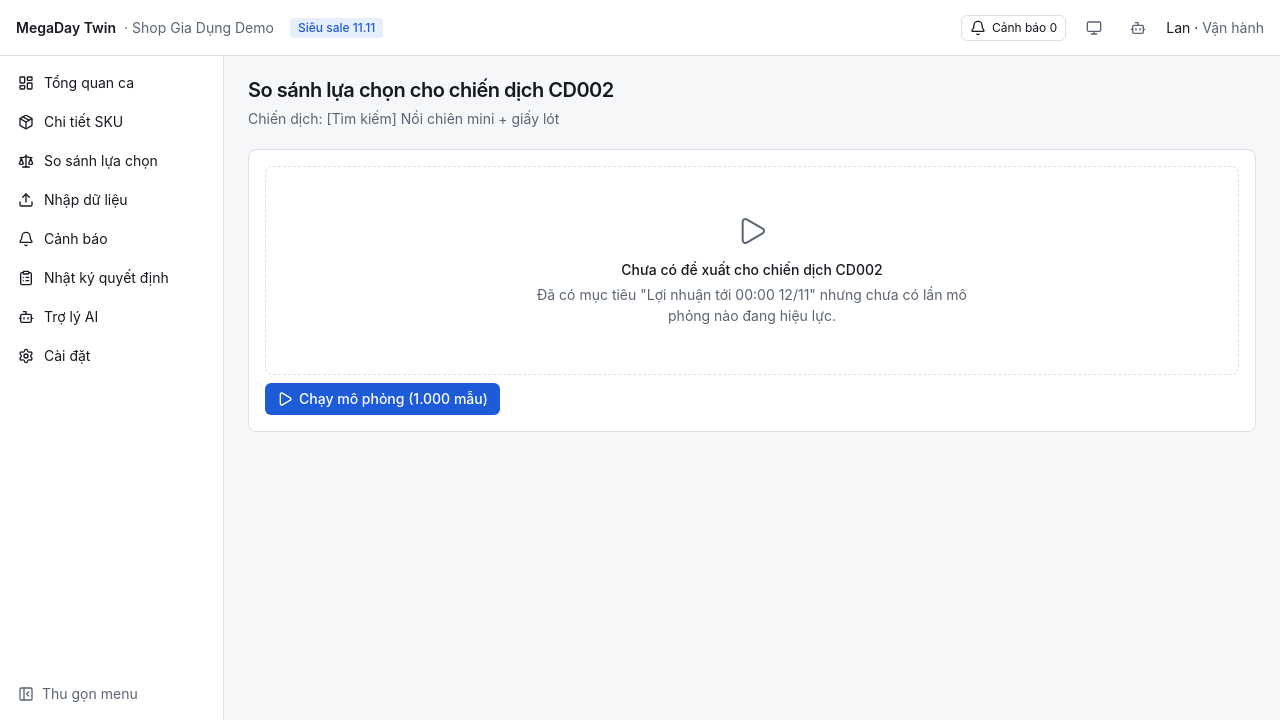
Compare · real API › goal but blocked by missing cost: lists what is missing
The width and height of the screenshot is (1280, 720).
What coordinates should you click on to do the following:
click the button "Chạy mô phỏng (1.000 mẫu)"
I would click on:
 (382, 399)
Its box is [265,383,500,415].
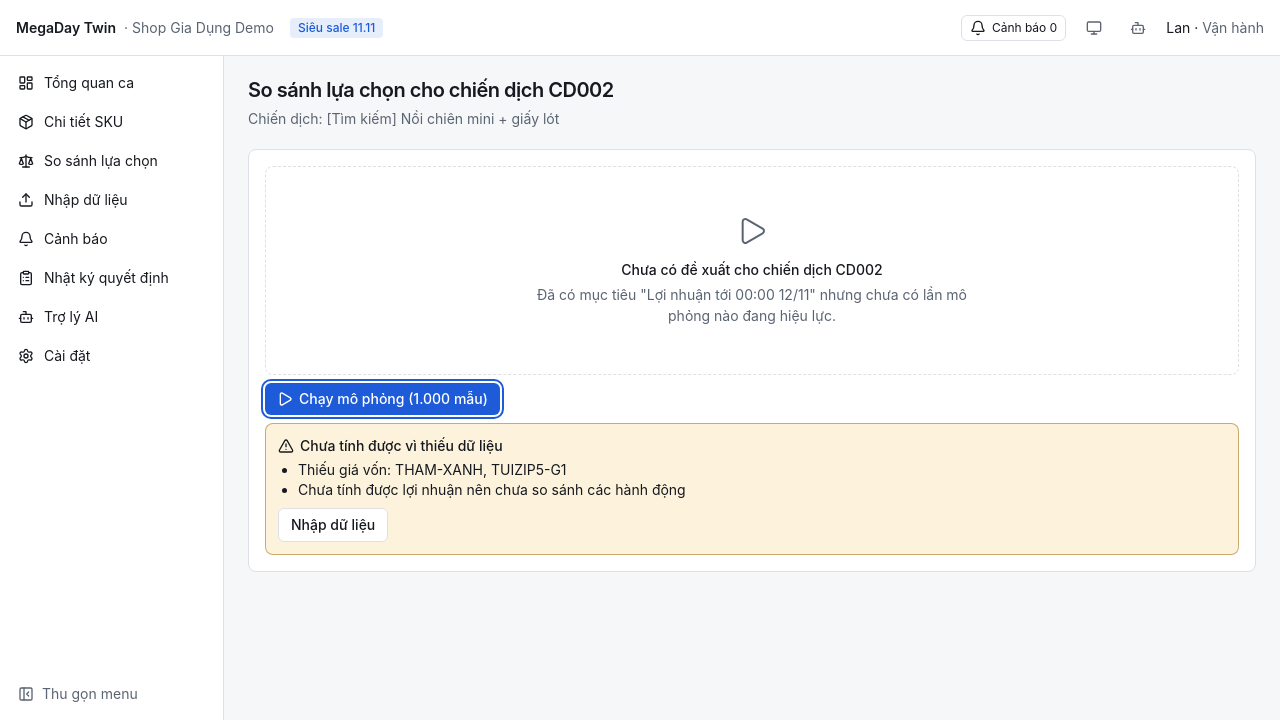
Expected: the text "Chưa tính được vì thiếu dữ liệu" is shown, [278,437,503,454]
Expected: the list item "Thiếu giá vốn: THAM-XANH, TUIZIP5-G1" is shown, [298,461,566,478]
